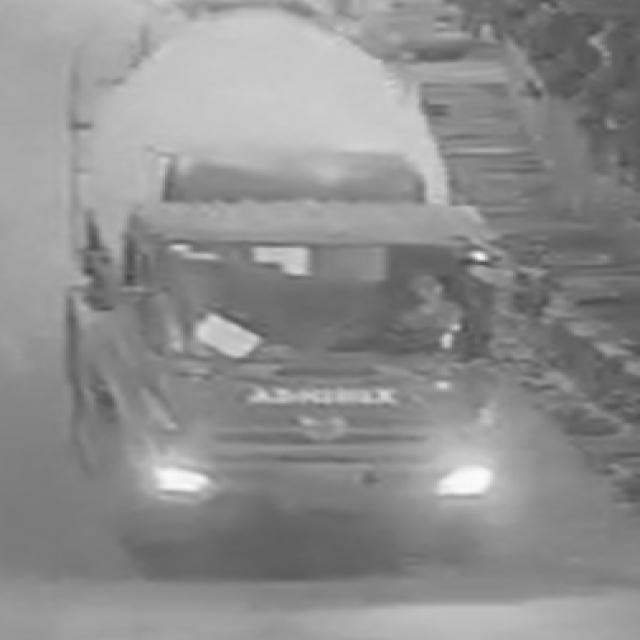Truck: (36, 26, 565, 584)
